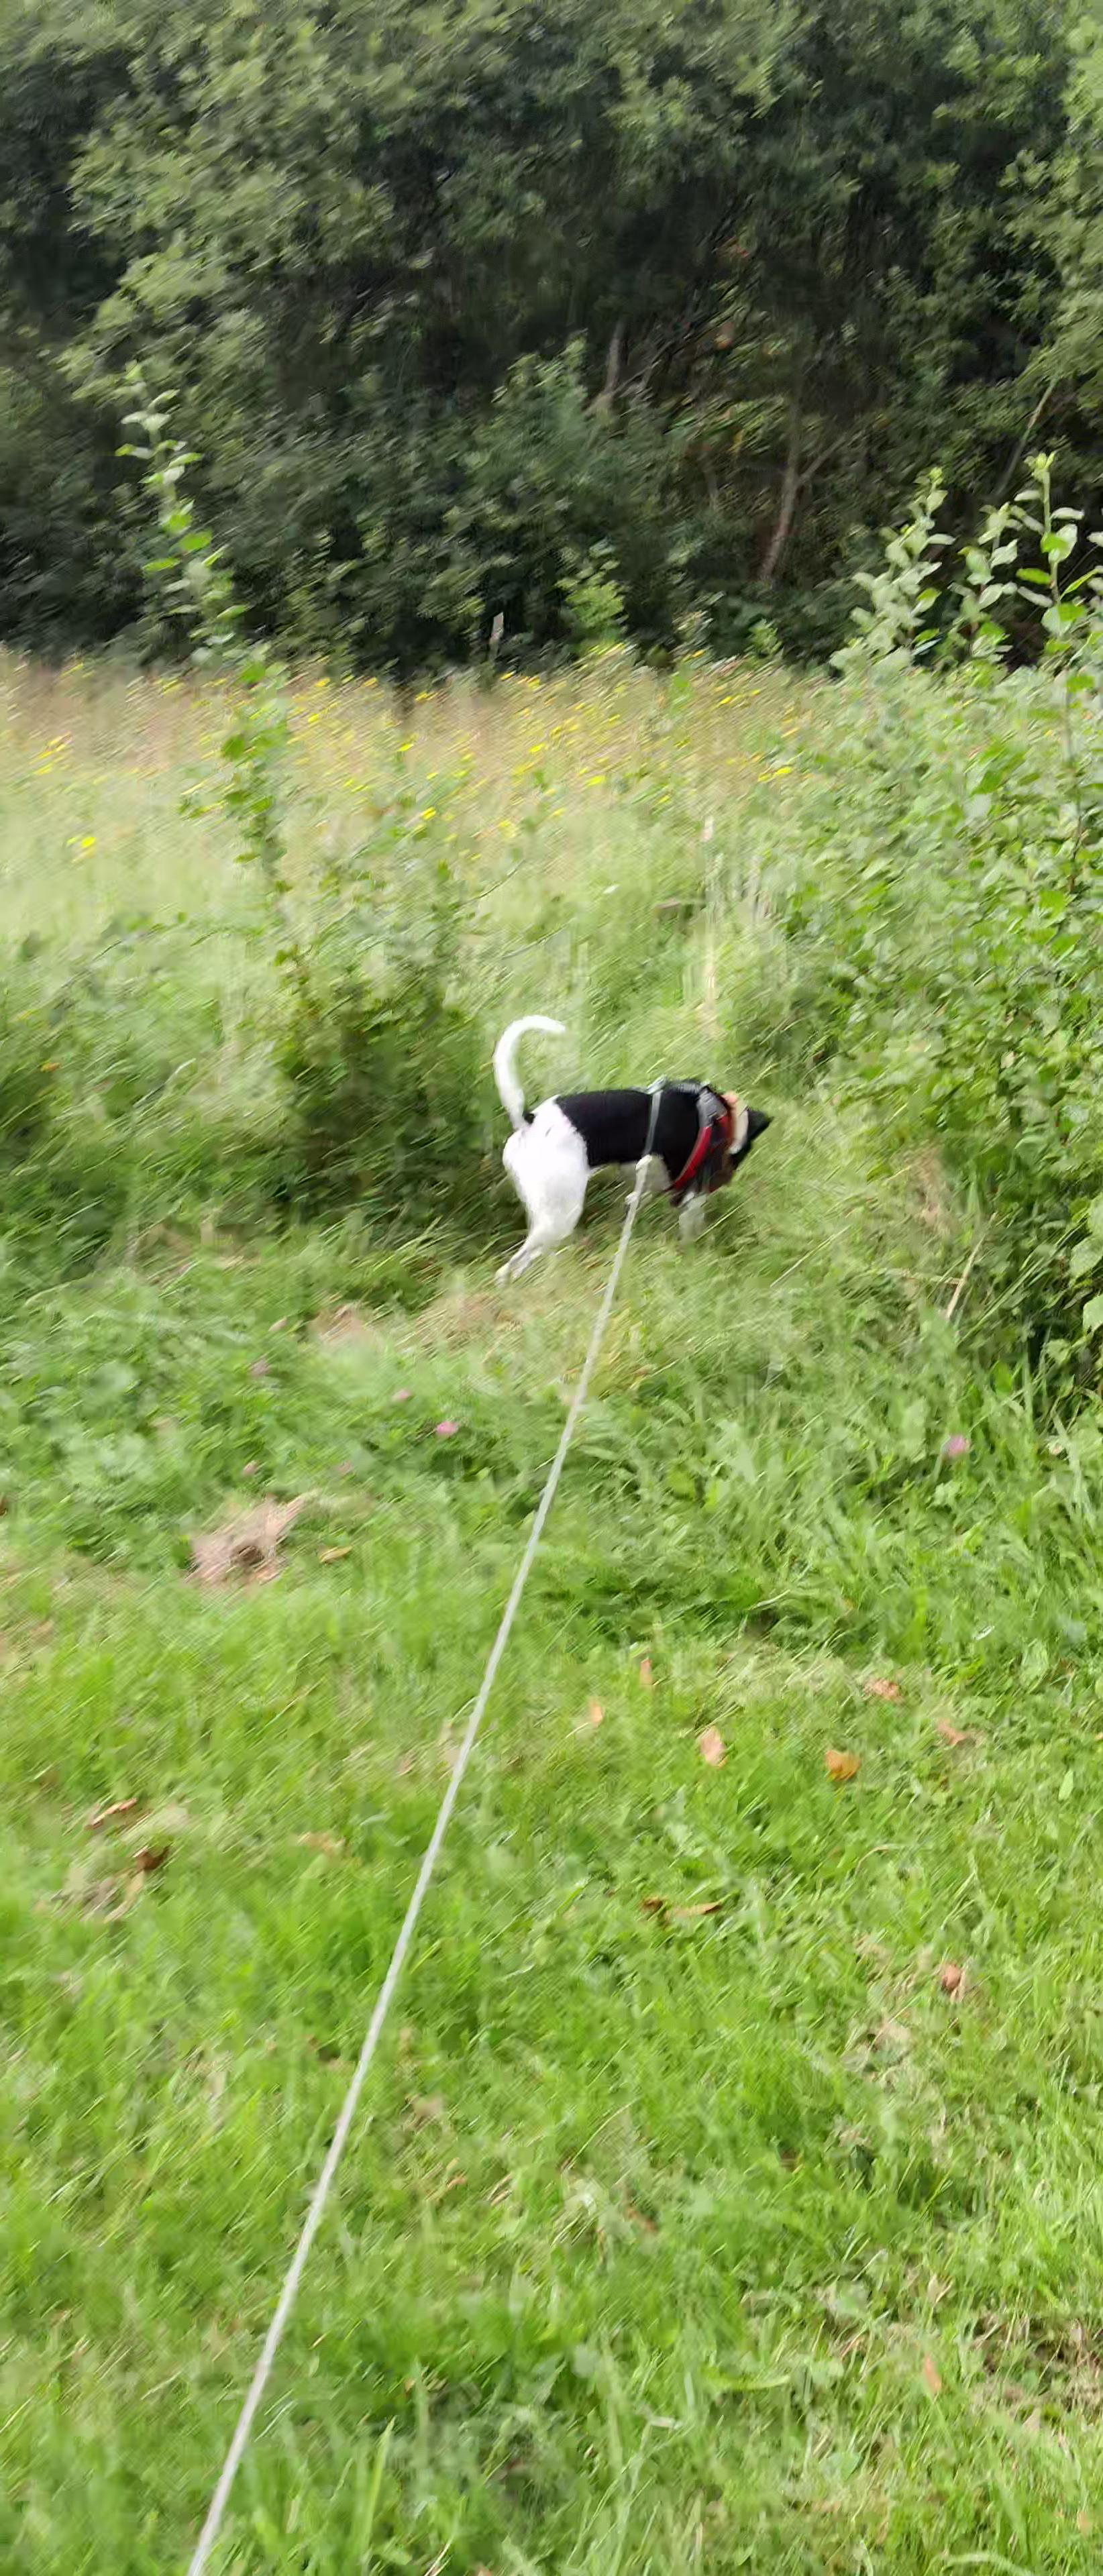Dog: (475, 987, 789, 1299)
